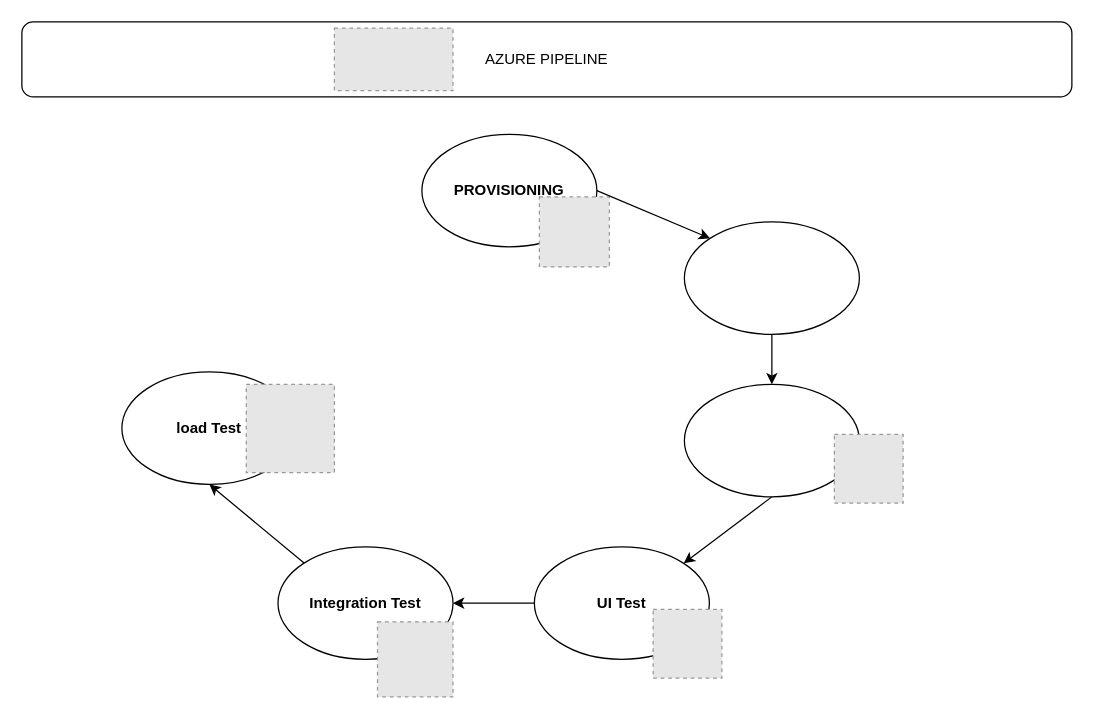
Some shapes in this 1094 by 719 pixel diagram are drawn without their labels. Grey dashed boxes stand in for pictures. Each missing label, with the centre of its shape:
"BUILD" belongs at (x=771, y=277).
"Deploy" belongs at (x=771, y=440).
